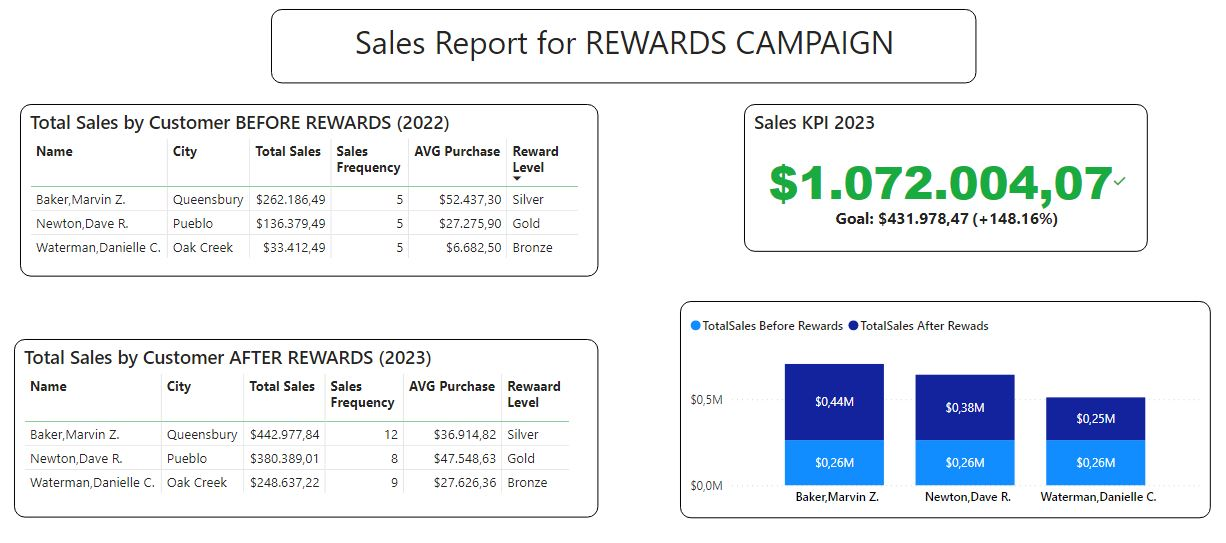

The page's visual inventory and layout, read from the dashboard file:
{"tool":"powerbi","page":{"name":"Sales Report","canvas":[1280,720],"ordinal":0},"visuals":[{"type":"tableEx","title":"Total Sales by Customer AFTER REWARDS (2023)","fields":{"Values":["SaelsAfterRewards.name","SaelsAfterRewards.homeCity","SaelsAfterRewards.totalSales","SaelsAfterRewards.salesFrequency","SaelsAfterRewards.averagePurchase","SaelsAfterRewards.rewardLevel"]},"box":[25.2,351.7,588.6,180.4],"z":0},{"type":"tableEx","title":"Total Sales by Customer BEFORE REWARDS (2022)","fields":{"Values":["SalesBeforeRewards.name","SalesBeforeRewards.homeCity","SalesBeforeRewards.totalSales","SalesBeforeRewards.salesFrequency","SalesBeforeRewards.averagePurchase","SalesBeforeRewards.rewardLevel"]},"box":[31.2,114.9,582.6,174.4],"z":1},{"type":"kpi","title":"Sales KPI 2023","fields":{"Indicator":["SaelsAfterRewards.totalSales"],"Goal":["SalesBeforeRewards.totalSales"],"TrendLine":["SalesBeforeRewards.purchaseYear"]},"box":[760.9,114.9,407.2,149.2],"z":2},{"type":"columnChart","fields":{"Y":["SalesBeforeRewards.totalSales","SaelsAfterRewards.totalSales"],"Category":["SaelsAfterRewards.name"]},"box":[696.4,313.4,535.2,218.7],"z":3},{"type":"textbox","box":[284.2,19.1,710.6,74.6],"z":4}]}

Visuals, with their boxes on the page's 1280x720 design canvas (x1, y1, x2, y2). These are canvas units, not pixel positions in the 1226x543 screenshot, which may show the page scaled, cropped or inside an application window:
"Total Sales by Customer AFTER REWARDS (2023)" tableEx: {"x1": 25, "y1": 352, "x2": 614, "y2": 532}
"Total Sales by Customer BEFORE REWARDS (2022)" tableEx: {"x1": 31, "y1": 115, "x2": 614, "y2": 289}
"Sales KPI 2023" kpi: {"x1": 761, "y1": 115, "x2": 1168, "y2": 264}
columnChart - SalesBeforeRewards.totalSales x SaelsAfterRewards.totalSales: {"x1": 696, "y1": 313, "x2": 1232, "y2": 532}
textbox: {"x1": 284, "y1": 19, "x2": 995, "y2": 94}
